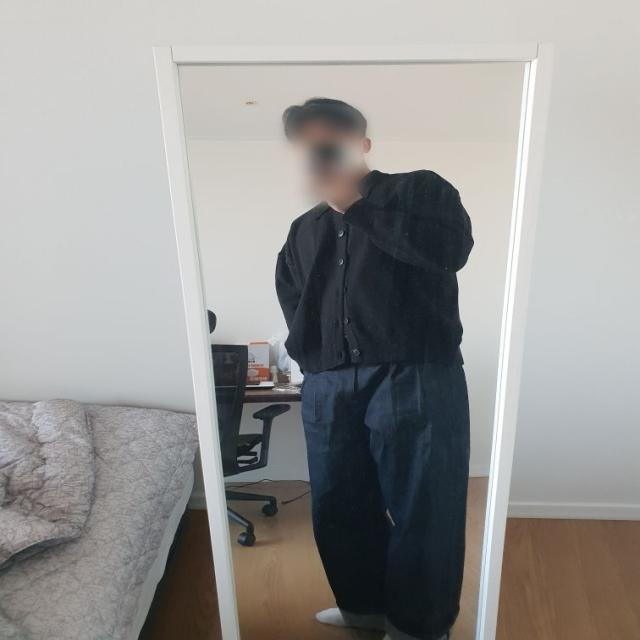cardigan: (273, 169, 474, 369)
denimpants: (299, 357, 472, 640)
